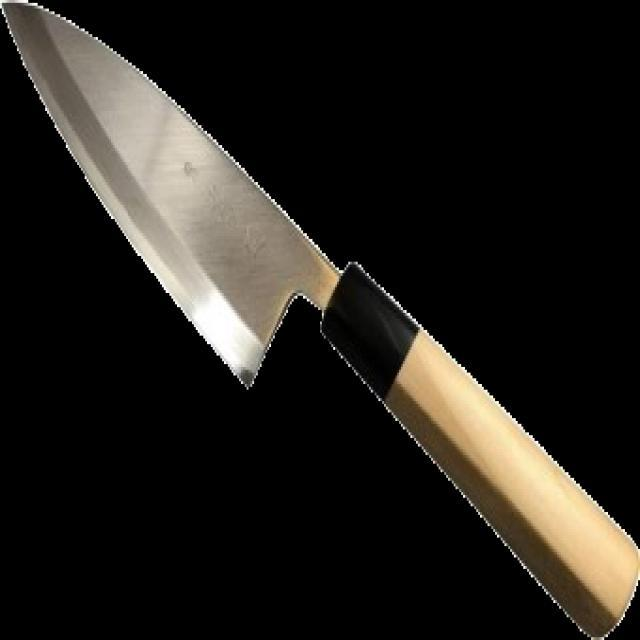knife: (0, 0, 638, 637)
